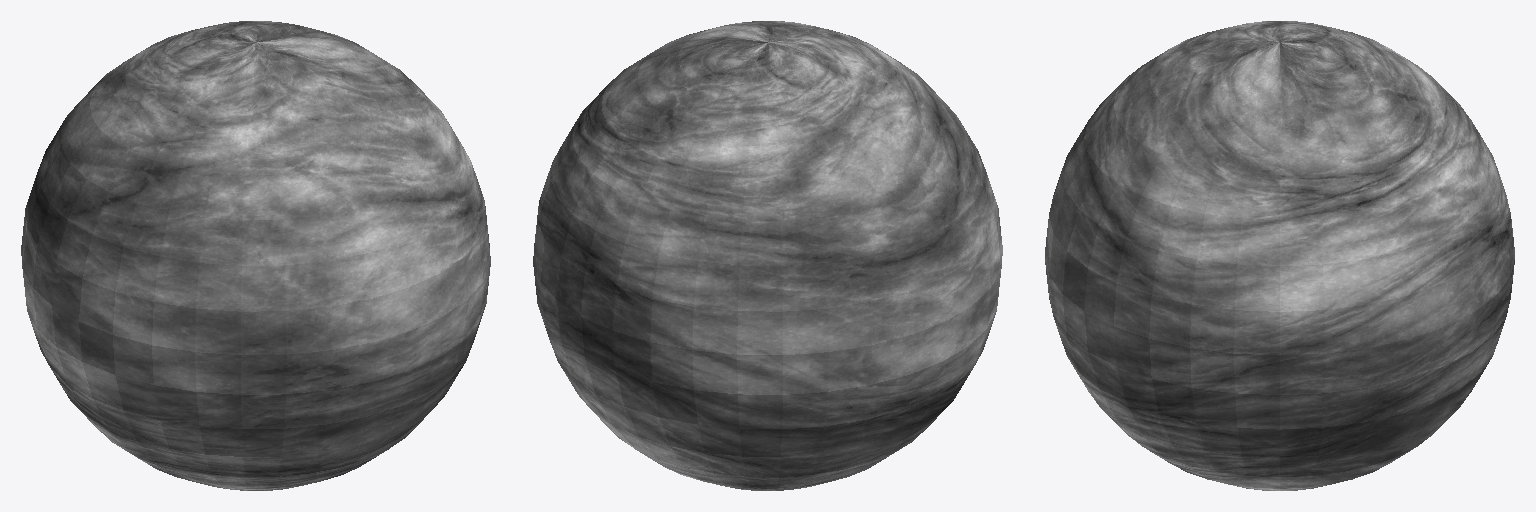
3 views of the same model, side by side, from view 1: azimuth 30°, elevation 25°; view 2: azimuth 150°, elevation 25°; view 3: azimuth 270°, elevation 25° (orthographic).
Parts seen in each view (by area): view 1: Sphere; view 2: Sphere; view 3: Sphere.
Boxes of the visible parts, x1,y1,x2,y2 form: Sphere: [21, 21, 490, 490]; Sphere: [533, 21, 1002, 490]; Sphere: [1045, 21, 1514, 490].
Size of the model in its own units: 1 by 1 by 1.
Materials: 1 (1 with a texture image).